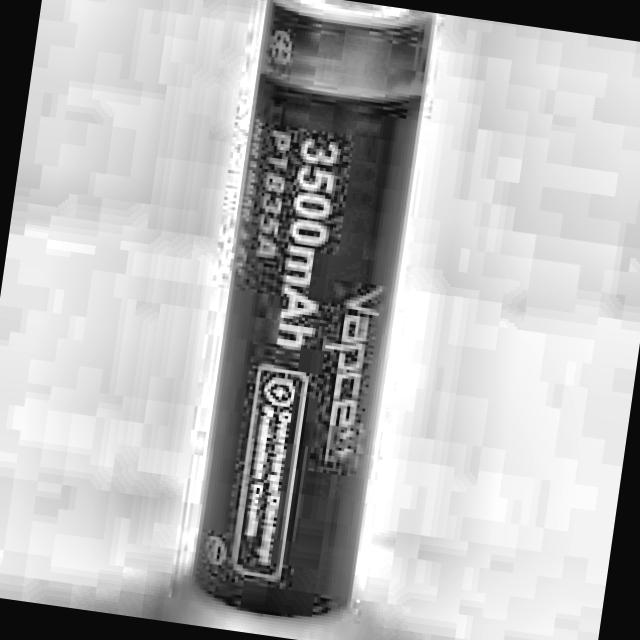Battery: (189, 0, 433, 619)
